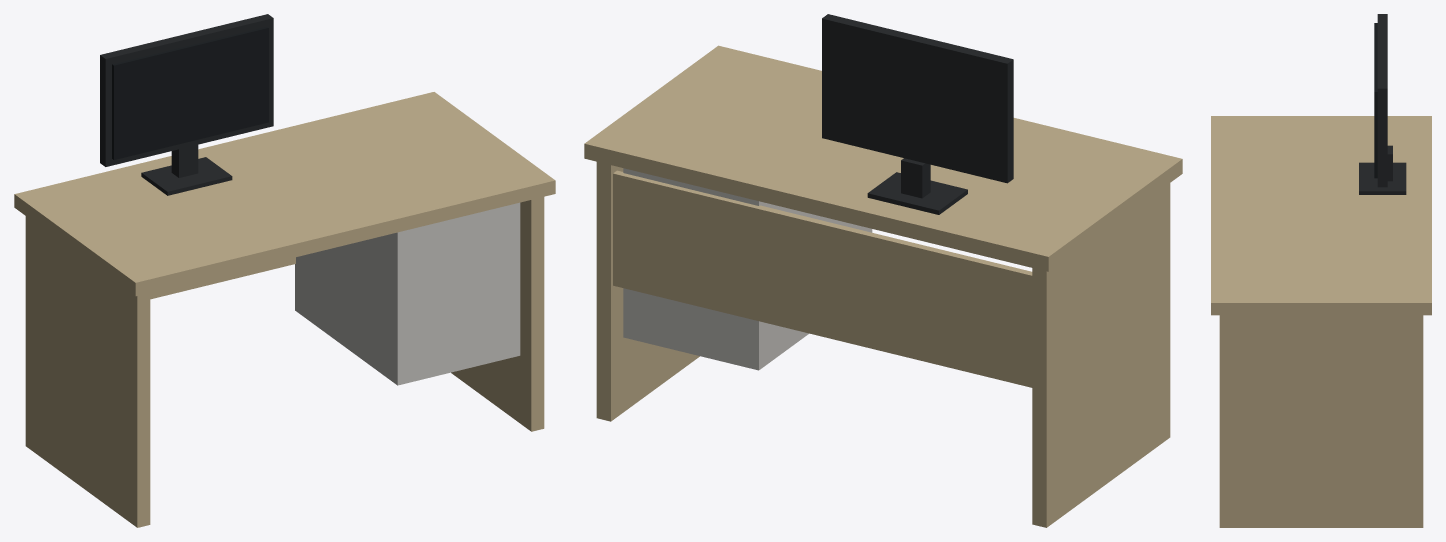
Rendered from desk.glb.
The picture shows the model from 3 angles, left to right: view 1: azimuth 30°, elevation 25°; view 2: azimuth 150°, elevation 25°; view 3: azimuth 270°, elevation 25°; orthographic projection. The views are drawn at different scales.
Visible parts, largest first — view 1: desk; view 2: desk; view 3: desk.
Boxes of the visible parts, left/top/right/bottom form: desk: left=14, top=14, right=555, bottom=527; desk: left=584, top=14, right=1182, bottom=527; desk: left=1211, top=14, right=1431, bottom=527.
Bounding box in the file's own units: 1.3 × 1.16 × 0.65.
